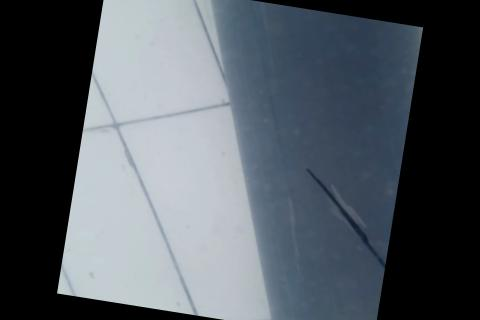keretakan: (287, 165, 398, 279)
